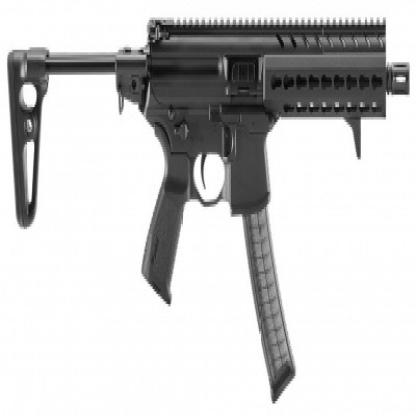Guns: (4, 5, 415, 413)
